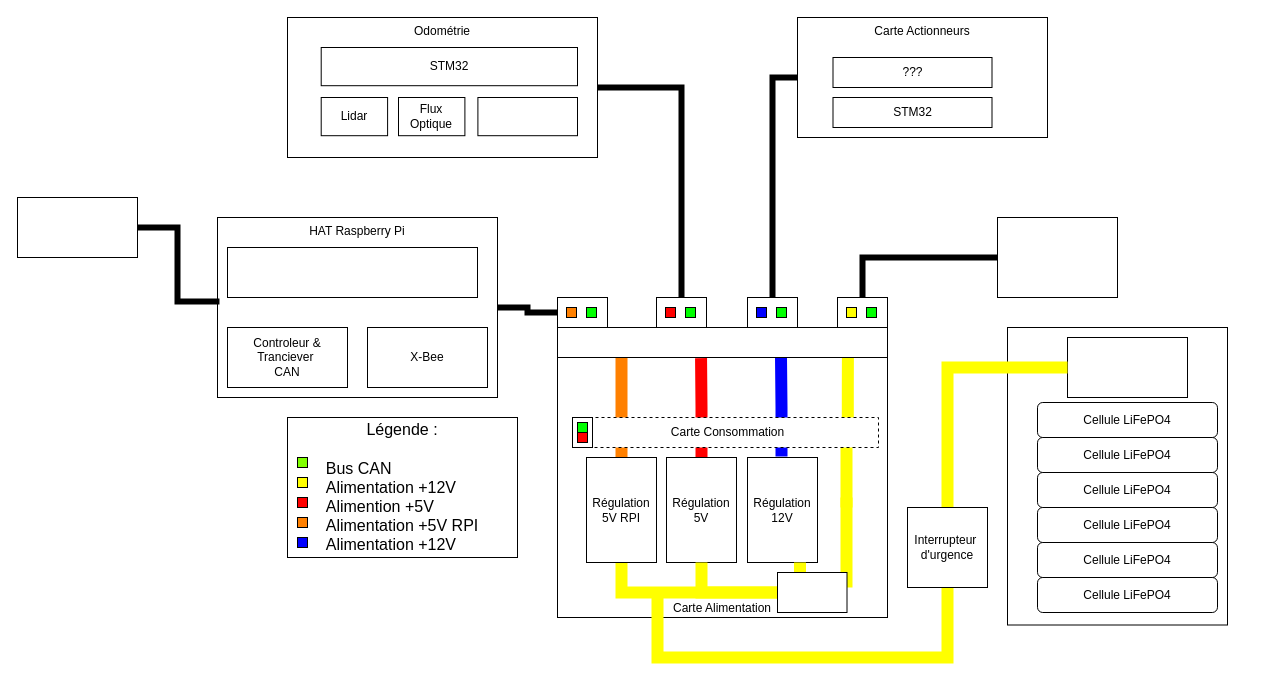
Image size: 1265x682. Some labels were removed from this diagram. The shapes that lost their labels are listed below. From the top down, each one's centre as x and y in pixels, then its label:
point (527, 116): Gyroscope Acceleromètre
point (77, 227): Interrupteur logique Démarrage
point (352, 272): Raspberry Pi
point (1057, 257): Base Roulante
point (722, 342): Connecteurs
point (1127, 367): BMS
point (811, 592): Relais de coupure
